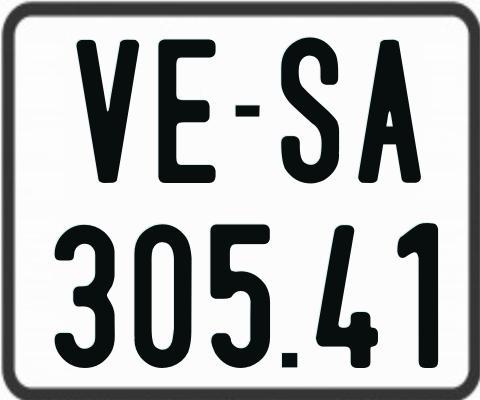0: (132, 221, 190, 365)
1: (396, 220, 443, 367)
3: (55, 225, 116, 370)
4: (316, 222, 380, 368)
5: (207, 223, 270, 372)
A: (355, 38, 419, 187)
E: (155, 38, 216, 188)
S: (279, 36, 341, 188)
V: (74, 37, 142, 185)
